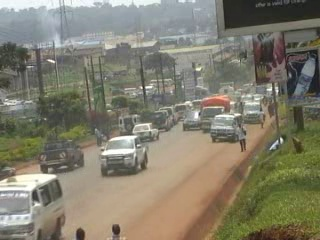Car: (116, 113, 145, 139), (146, 109, 172, 135), (181, 108, 206, 133), (131, 122, 160, 143)
